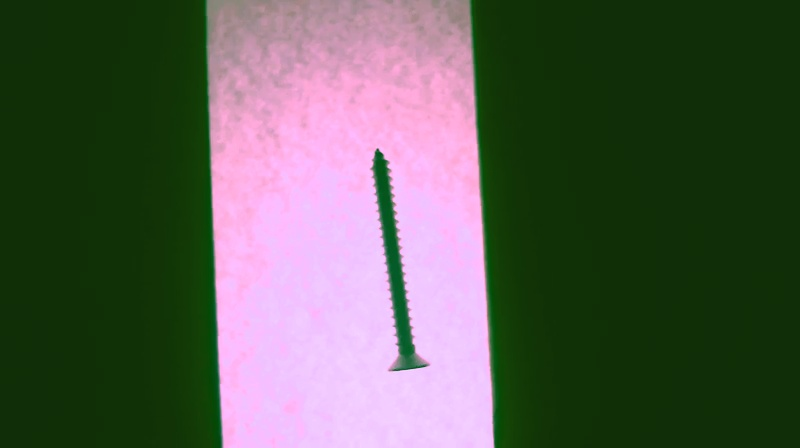S002: (368, 144, 433, 375)
